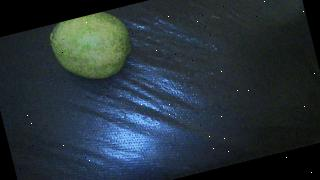DESECHO: (47, 7, 138, 89)
